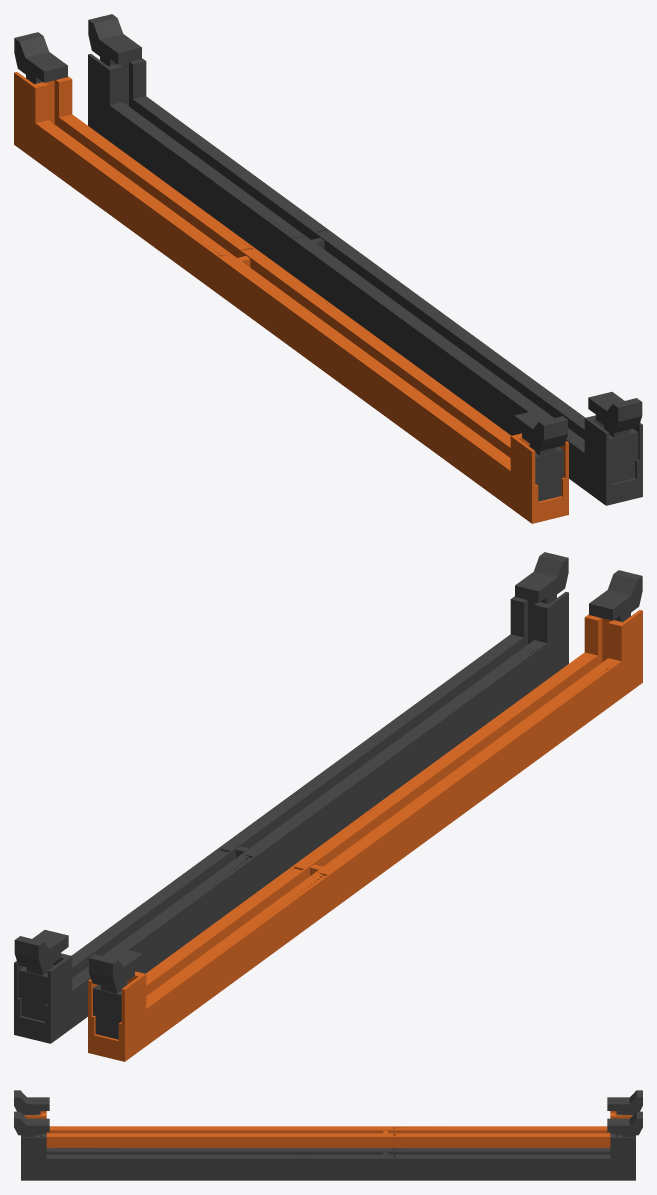
File: Ozu.fbx
3 renders of one model, top to bottom at view 1: azimuth 30°, elevation 25°; view 2: azimuth 150°, elevation 25°; view 3: azimuth 270°, elevation 25°, orthographic. The views are drawn at different scales.
Parts seen in each view (by area): view 1: Плоскость.009, Плоскость.011, Плоскость.010; view 2: Плоскость.009, Плоскость.011, Плоскость.010; view 3: Плоскость.011, Плоскость.009, Плоскость.010.
Boxes of the visible parts, bbox=[...] form: Плоскость.009: bbox=[14, 72, 568, 523]; Плоскость.011: bbox=[88, 54, 642, 505]; Плоскость.010: bbox=[14, 14, 642, 501]; Плоскость.009: bbox=[88, 610, 642, 1061]; Плоскость.011: bbox=[14, 592, 568, 1043]; Плоскость.010: bbox=[14, 552, 642, 1039]; Плоскость.011: bbox=[21, 1132, 635, 1180]; Плоскость.009: bbox=[24, 1111, 632, 1147]; Плоскость.010: bbox=[14, 1090, 642, 1136].
Bounding box in the file's own units: 15.17 × 13.19 × 126.
